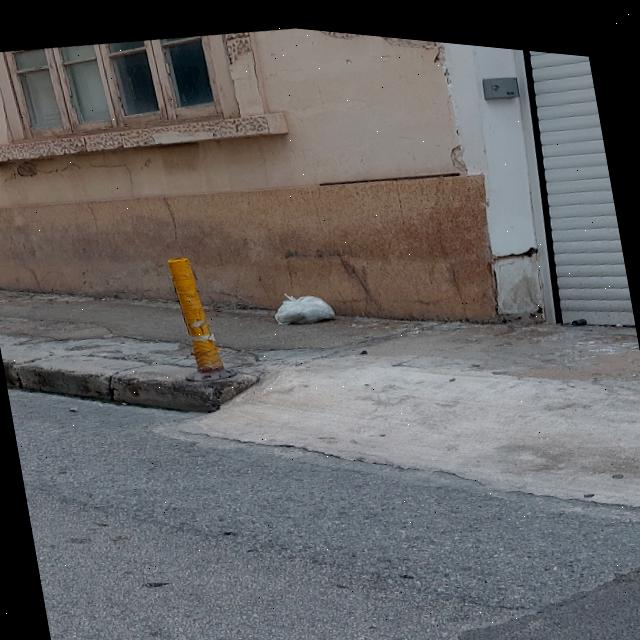Organic Waste -White Bag-: (271, 277, 338, 326)
